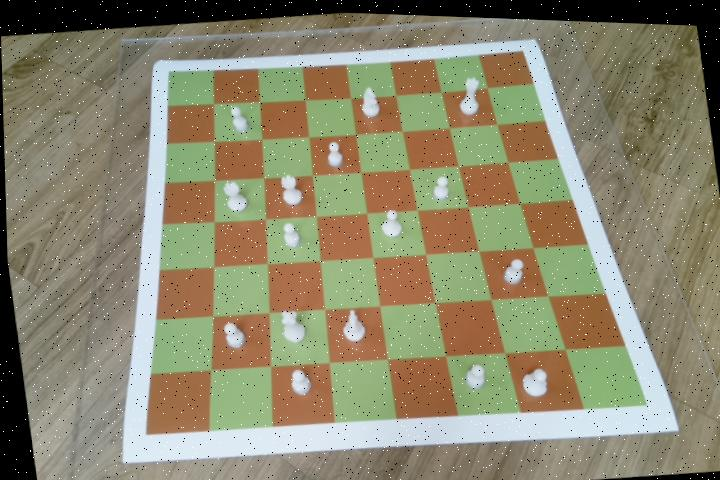chessboard-detect: (144, 46, 647, 433)
